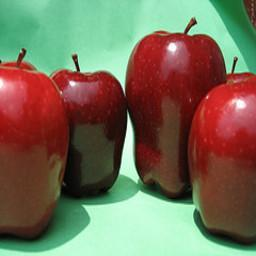apple: (128, 21, 231, 212), (37, 58, 125, 198), (1, 61, 70, 239), (188, 82, 256, 245)
